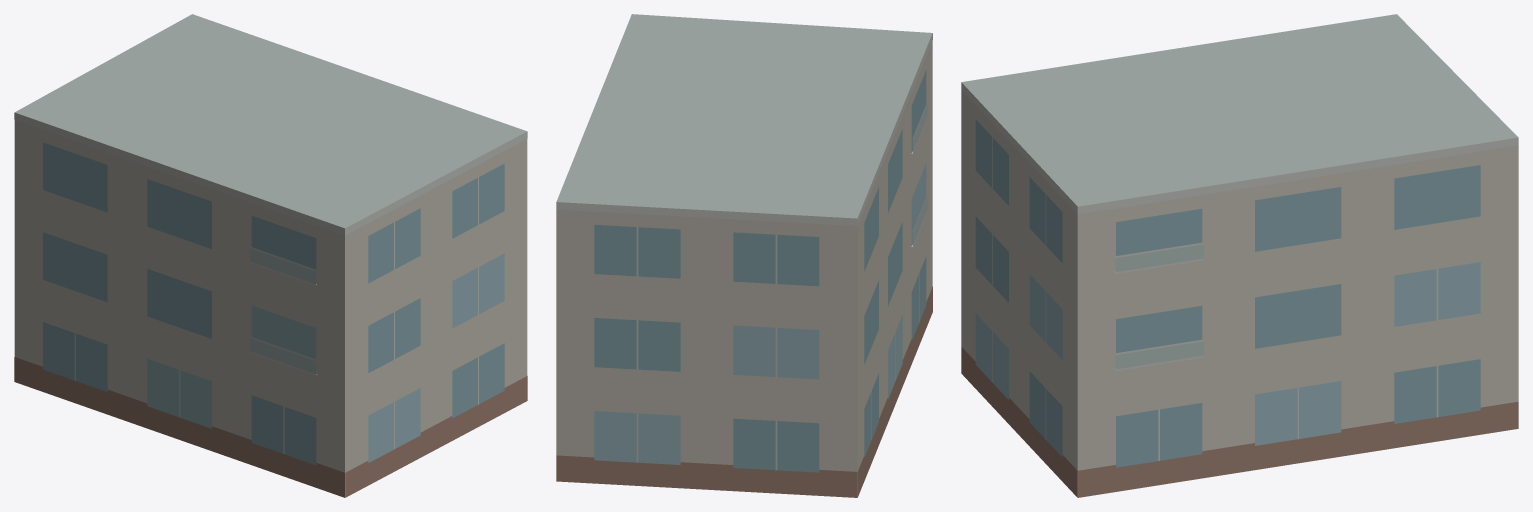
File: survey-upis-32759817.glb
3 views of the same model, side by side, from view 1: azimuth 30°, elevation 25°; view 2: azimuth 150°, elevation 25°; view 3: azimuth 270°, elevation 25° (orthographic). The views are drawn at different scales.
Visible parts, largest first — view 1: survey-upis-32759817.tmp; view 2: survey-upis-32759817.tmp; view 3: survey-upis-32759817.tmp.
Part boxes in pixels (<box>): survey-upis-32759817.tmp: <box>14,14,527,497</box>; survey-upis-32759817.tmp: <box>556,14,932,497</box>; survey-upis-32759817.tmp: <box>961,14,1518,497</box>.
Bounding box in the file's own units: 12.99 × 9.15 × 15.88.
